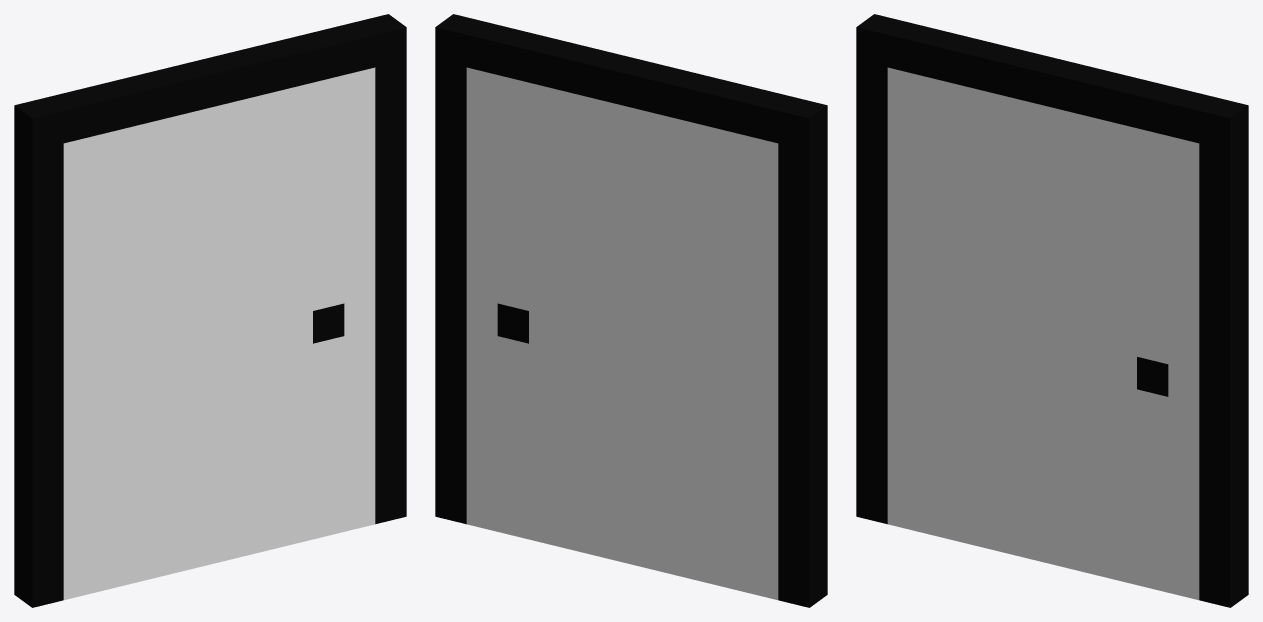
File: door-block.obj
3 views of the same model, side by side, from view 1: azimuth 30°, elevation 25°; view 2: azimuth 150°, elevation 25°; view 3: azimuth 330°, elevation 25° (orthographic).
Parts seen in each view (by area): view 1: Door-Block; view 2: Door-Block; view 3: Door-Block.
Boxes of the visible parts, x1,y1,x2,y2 form: Door-Block: (14,14,406,607); Door-Block: (435,14,827,607); Door-Block: (856,14,1248,607).
Bounding box in the file's own units: 1.2 × 1.5 × 0.1.
1 material, 1 textured.
